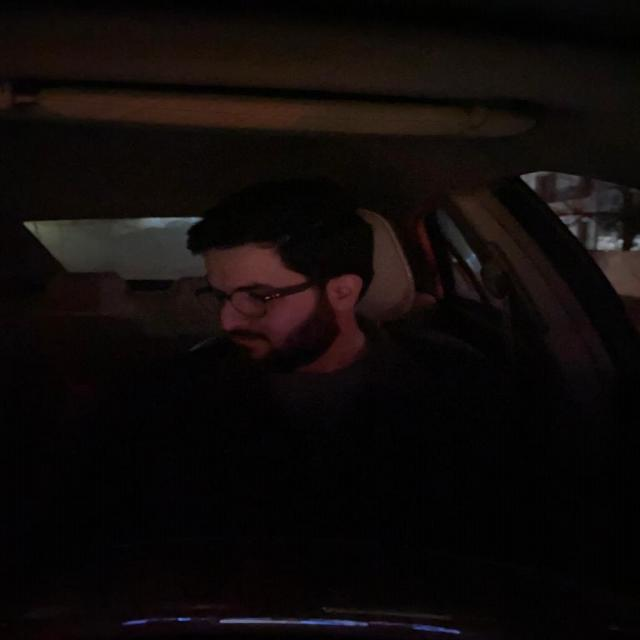drowsy: (177, 200, 371, 372)
